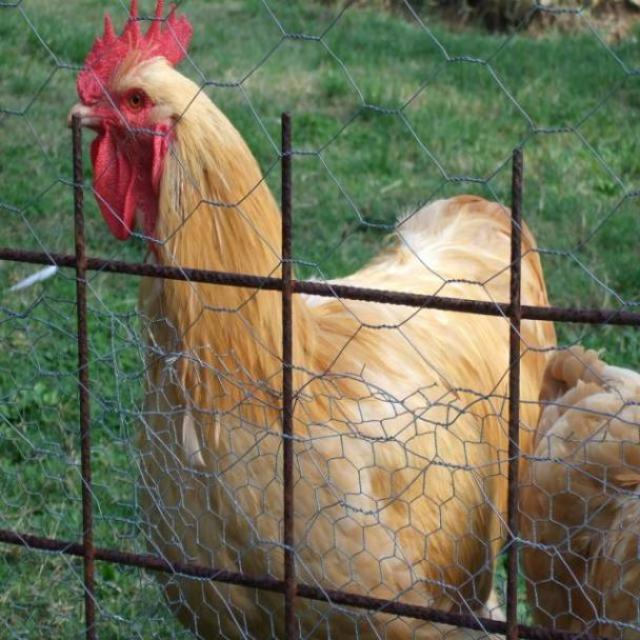Chicken: (60, 0, 557, 639)
